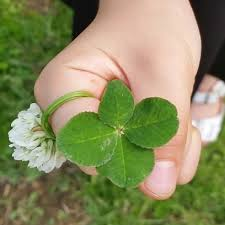4-clover: (58, 81, 178, 190)
